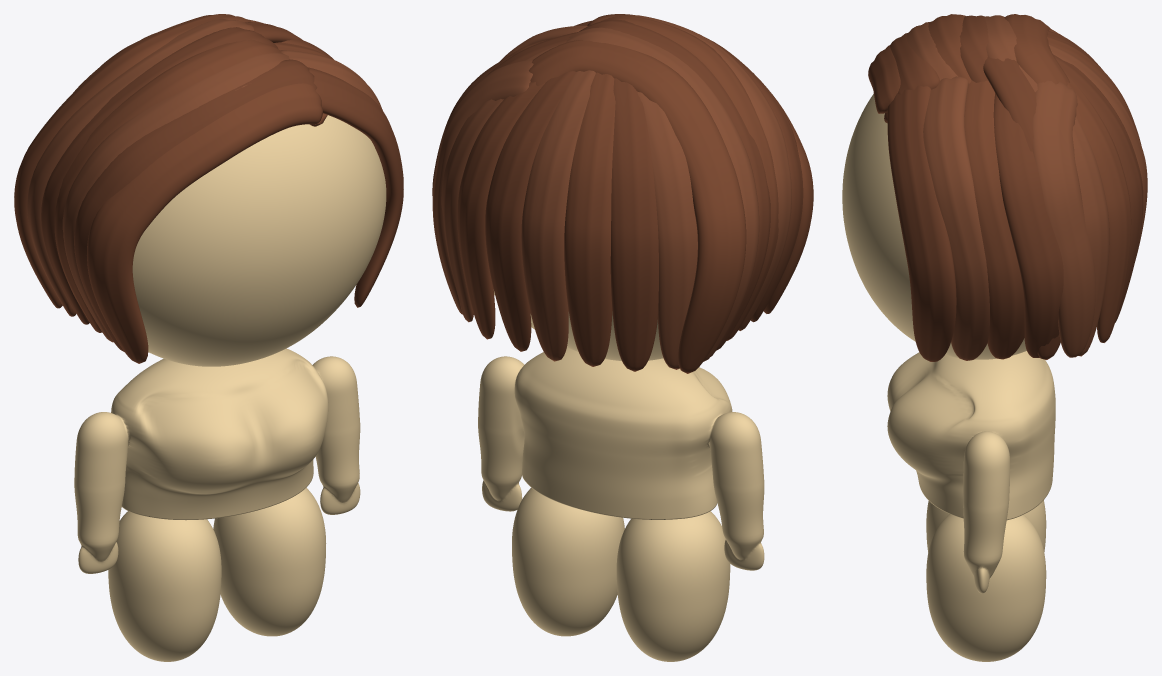
File: Feminine-hands-paddle-base.glb
3 renders of one model, left to right at view 1: azimuth 30°, elevation 25°; view 2: azimuth 150°, elevation 25°; view 3: azimuth 270°, elevation 25°, orthographic.
Visible parts, largest first — view 1: Skin / soft oval head, Skin / rounded torso, Hair / Bob / side sweep 0, Skin / leg blob -1, Skin / leg blob 1, Hair / Bob / side sweep 1, Hair / Bob / side sweep 2, Hair / Bob / side sweep 3, Hair / Bob / side sweep 7, Hair / Bob / side sweep 6, Hair / Bob / side sweep 5, Hair / Bob / side sweep 4 (+2 smaller); view 2: Skin / rounded torso, Hair / Bob / side sweep 6, Skin / leg blob -1, Skin / leg blob 1, Hair / Bob / side sweep 19, Hair / Bob / side sweep 18, Hair / Bob / side sweep 17, Hair / Bob / side sweep 16, Hair / Bob / side sweep 20, Hair / Bob / side sweep 15, Hair / Bob / side sweep 5, Hair / Bob / side sweep 3 (+9 smaller); view 3: Skin / rounded torso, Skin / leg blob 1, Hair / Bob / side sweep 7, Skin / soft oval head, Hair / Bob / side sweep 8, Hair / Bob / side sweep 11, Hair / Bob / side sweep 10, Hair / Bob / side sweep 9, Hair / Bob / side sweep 15, Hair / Bob / side sweep 14, Hair / Bob / side sweep 16, Hair / Bob / side sweep 13 (+10 smaller).
Boxes of the visible parts, x1,y1,x2,y2 form: Skin / soft oval head: (132,115,386,366); Skin / rounded torso: (74,348,360,573); Hair / Bob / side sweep 0: (87,83,327,363); Skin / leg blob -1: (108,511,221,661); Skin / leg blob 1: (213,487,326,636); Hair / Bob / side sweep 1: (74,59,317,351); Hair / Bob / side sweep 2: (62,52,289,342); Hair / Bob / side sweep 3: (54,39,281,332); Hair / Bob / side sweep 7: (308,67,403,307); Hair / Bob / side sweep 6: (14,14,250,308); Hair / Bob / side sweep 5: (27,18,253,316); Hair / Bob / side sweep 4: (41,27,278,324); Skin / rounded torso: (478,347,764,570); Hair / Bob / side sweep 6: (529,40,746,373); Skin / leg blob -1: (616,511,730,661); Skin / leg blob 1: (512,487,624,636); Hair / Bob / side sweep 19: (610,78,658,371); Hair / Bob / side sweep 18: (564,72,615,366); Hair / Bob / side sweep 17: (521,70,595,361); Hair / Bob / side sweep 16: (485,71,576,351); Hair / Bob / side sweep 20: (637,91,697,369); Hair / Bob / side sweep 15: (457,82,545,339); Hair / Bob / side sweep 5: (565,27,759,361); Hair / Bob / side sweep 3: (600,15,778,340); Skin / rounded torso: (887,351,1055,593); Skin / leg blob 1: (926,514,1046,661); Hair / Bob / side sweep 7: (887,85,956,361); Skin / soft oval head: (842,93,1026,359); Hair / Bob / side sweep 8: (923,76,989,360); Hair / Bob / side sweep 11: (1032,80,1095,357); Hair / Bob / side sweep 10: (993,93,1063,357); Hair / Bob / side sweep 9: (964,80,1024,359); Hair / Bob / side sweep 15: (1067,76,1131,342); Hair / Bob / side sweep 14: (1019,65,1109,356); Hair / Bob / side sweep 16: (1053,54,1143,322); Hair / Bob / side sweep 13: (983,57,1060,359).
Bounding box in the file's own units: 1.02 × 1.86 × 0.8526.
